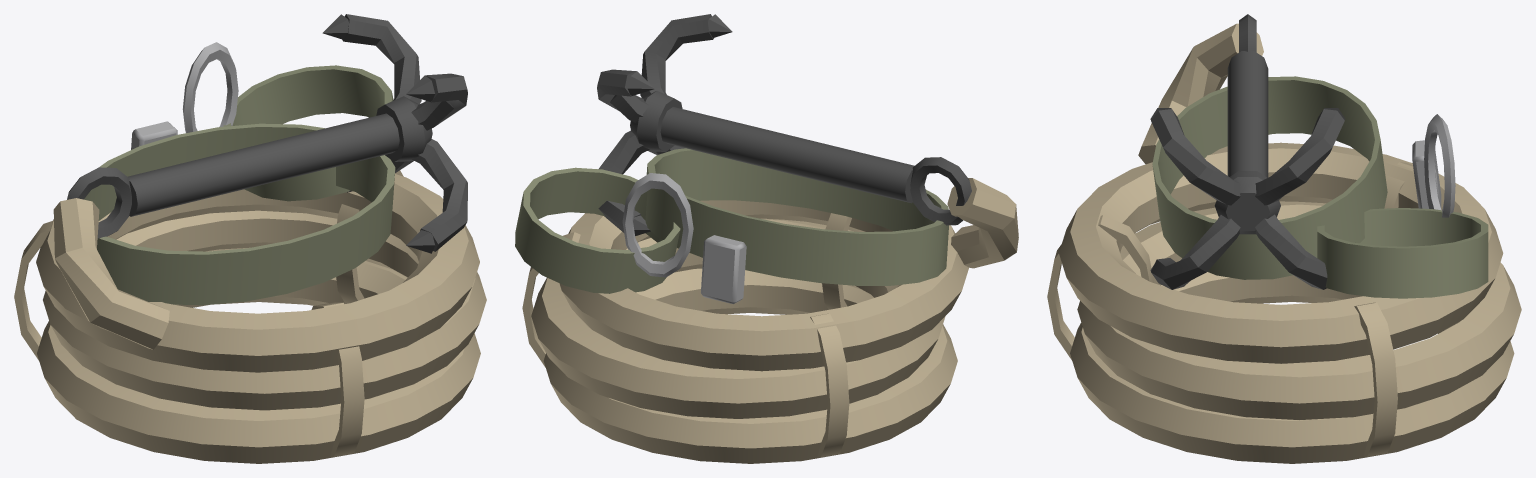
Rendered from climbing_kit.glb.
3 views of the same model, side by side, from view 1: azimuth 30°, elevation 25°; view 2: azimuth 150°, elevation 25°; view 3: azimuth 270°, elevation 25° (orthographic). The views are drawn at different scales.
Parts seen in each view (by area): view 1: body; view 2: body; view 3: body.
Boxes of the visible parts, bbox=[...] form: body: bbox=[14, 14, 486, 463]; body: bbox=[515, 14, 1018, 463]; body: bbox=[1047, 14, 1521, 463].
Bounding box in the file's own units: 0.1394 × 0.0967 × 0.1286.
